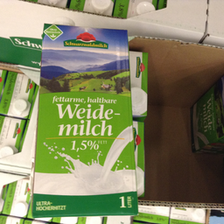milk: (30, 11, 144, 219)
